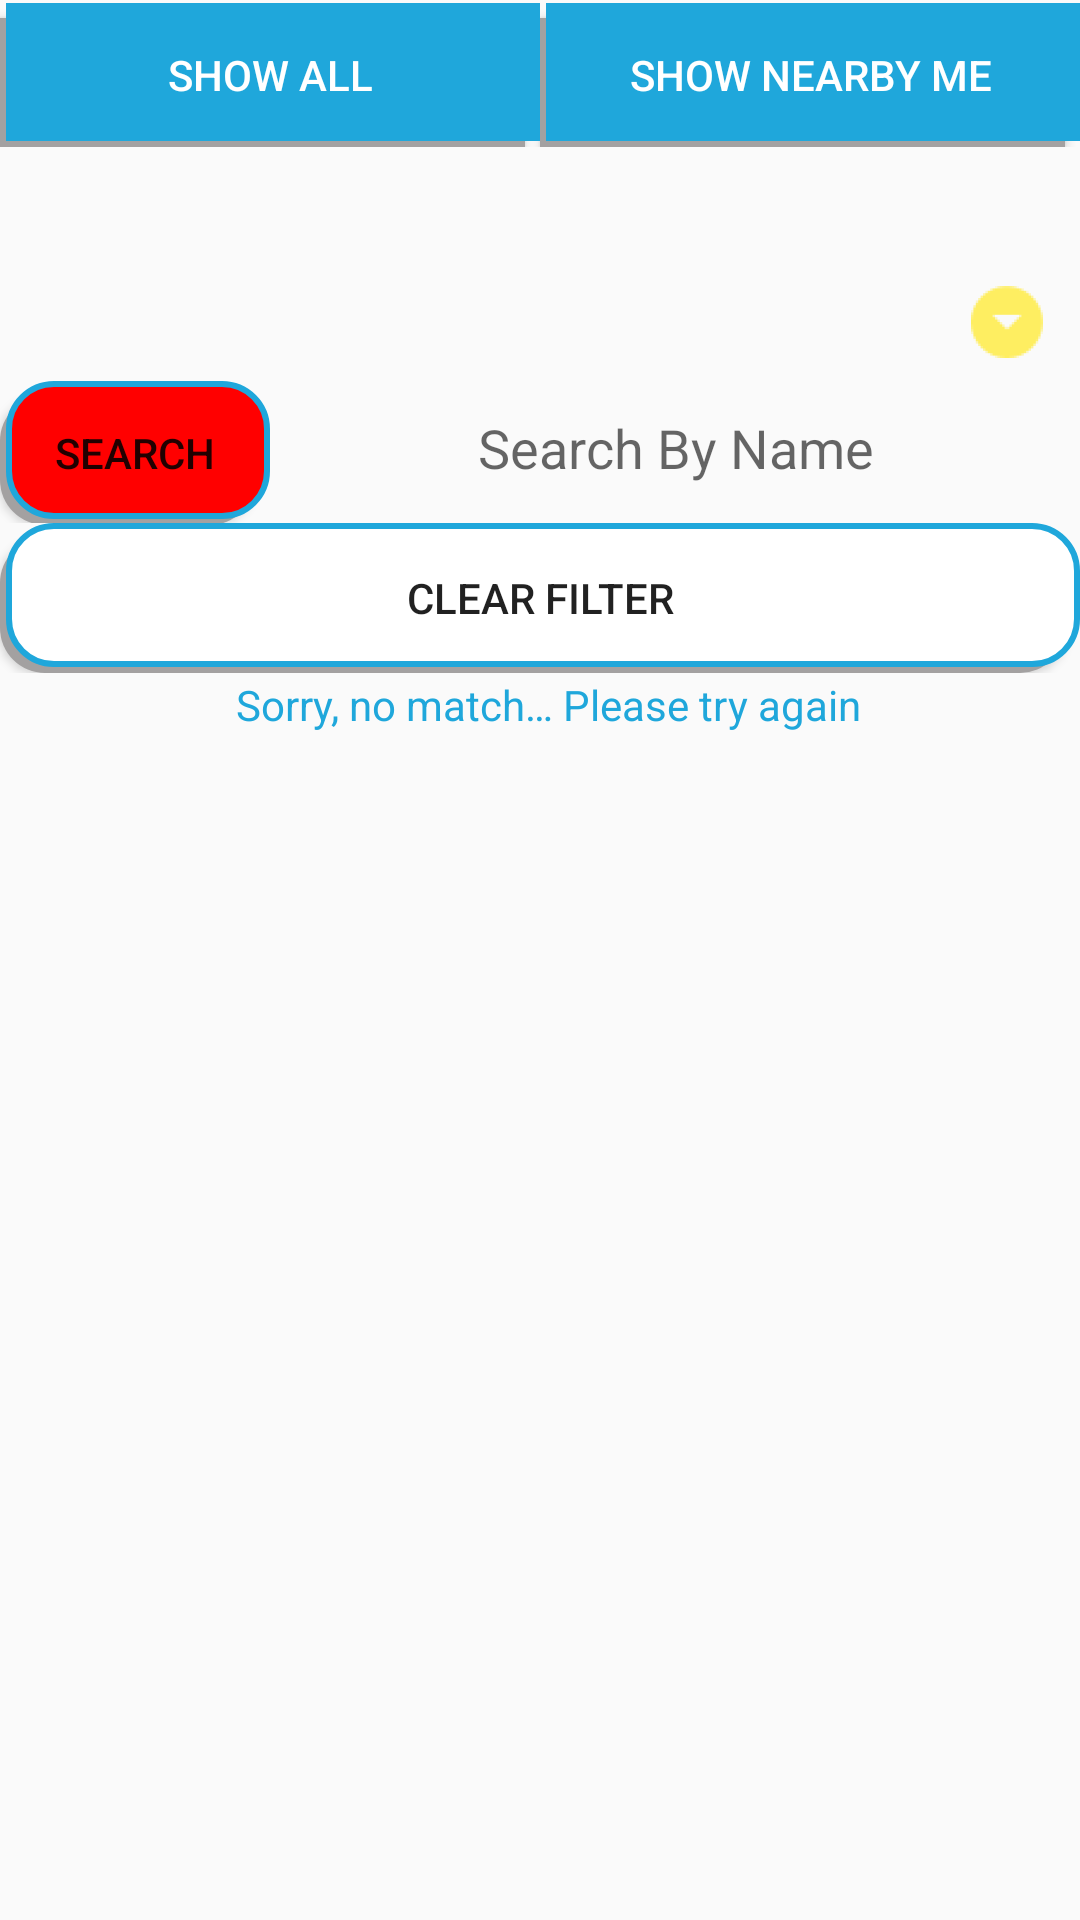

Screen size 1080px×1920px. Icon name, then its center in pixels as (x=x, y=y):
dropdown: (x=1007, y=322)
